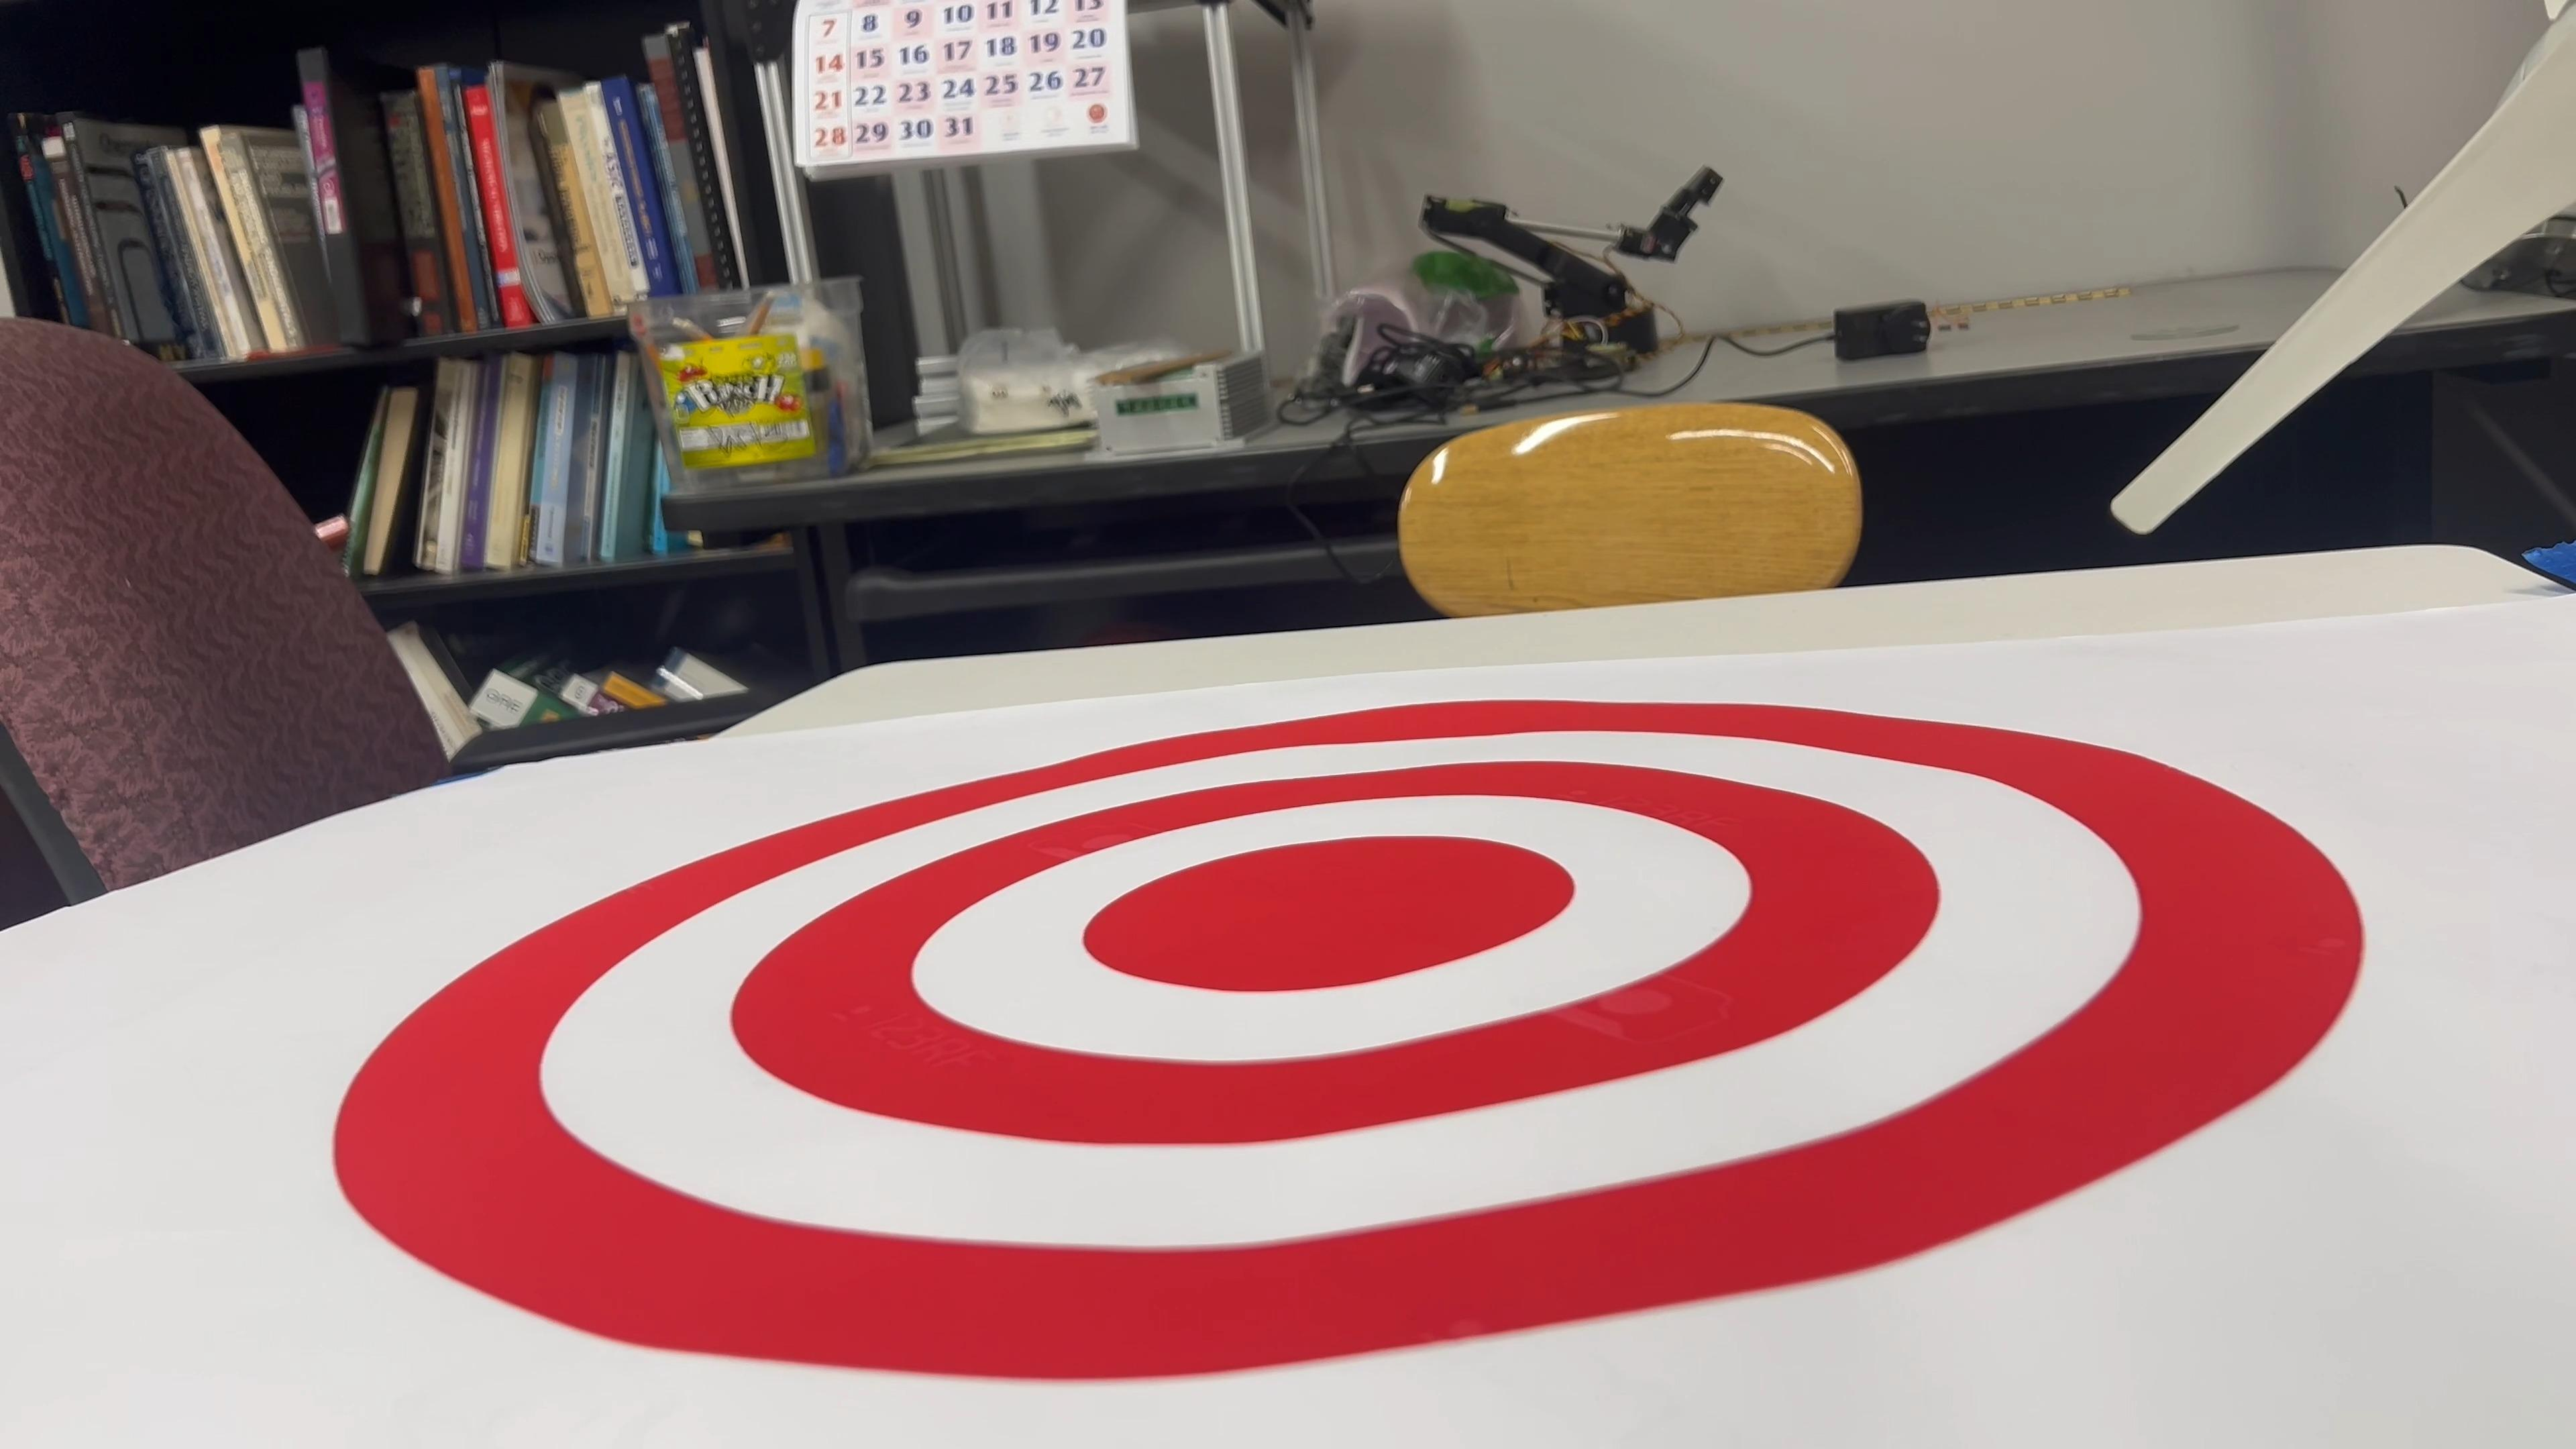target_red: (303, 681, 2426, 1415)
